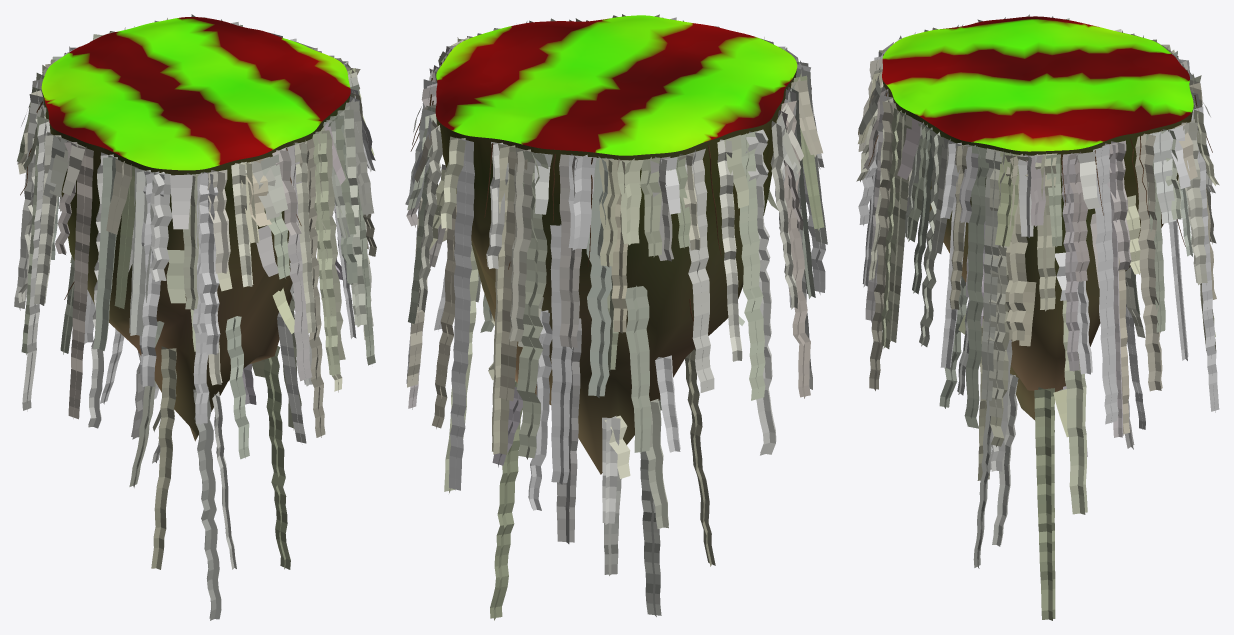
Rendered from SM_H17_Floater06.fbx.
3 views of the same model, side by side, from view 1: azimuth 30°, elevation 25°; view 2: azimuth 150°, elevation 25°; view 3: azimuth 270°, elevation 25° (orthographic). The views are drawn at different scales.
Parts seen in each view (by area): view 1: SM_H17_Floater06_Ivy, SM_H17_Floater06; view 2: SM_H17_Floater06_Ivy, SM_H17_Floater06; view 3: SM_H17_Floater06_Ivy, SM_H17_Floater06.
Boxes of the visible parts, box(x1,y1,x2,y2) form: SM_H17_Floater06_Ivy: box(14, 14, 376, 620); SM_H17_Floater06: box(41, 17, 350, 441); SM_H17_Floater06_Ivy: box(405, 14, 827, 620); SM_H17_Floater06: box(435, 15, 797, 474); SM_H17_Floater06_Ivy: box(856, 14, 1219, 620); SM_H17_Floater06: box(882, 16, 1193, 419).
Bounding box in the file's own units: 33.23 × 49.08 × 32.36.
